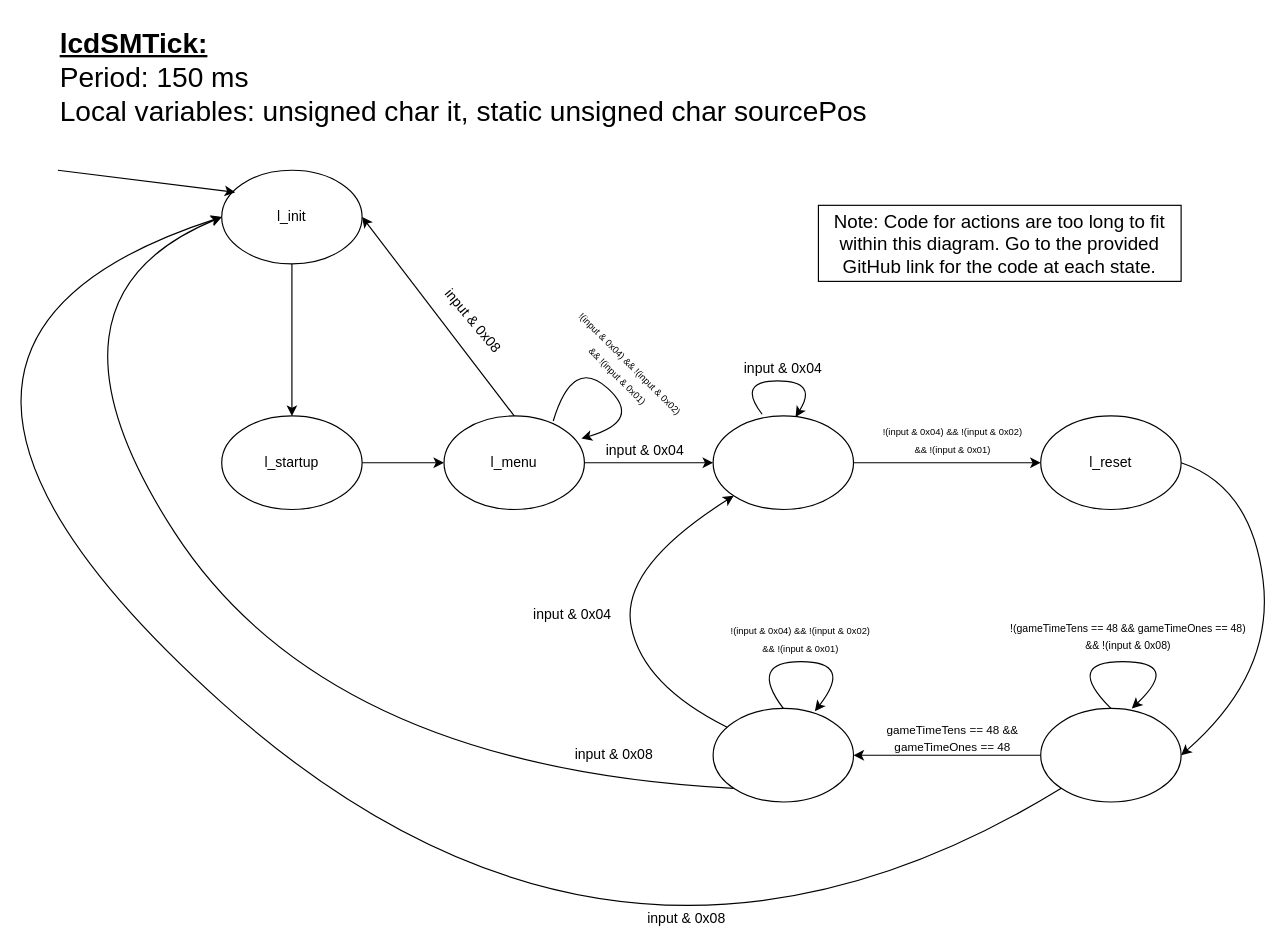
Image size: 1285x950. Some labels were removed from this diagram. The shapes that lost their labels are listed below. From the top down, each one's centre as x and y in pixels, then its label:
At point (783, 462): "l_hold".
At point (783, 754): "l_final".
At point (1110, 754): "l_scroll".
